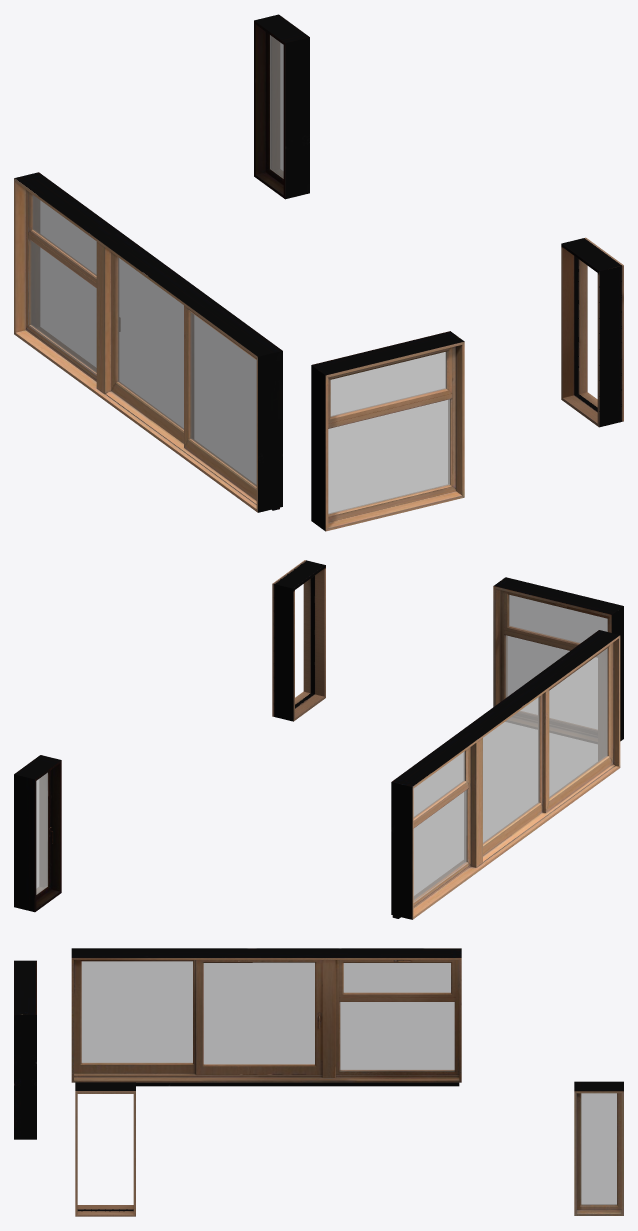
Rendered from Wood_Window.glb.
3 renders of one model, top to bottom at view 1: azimuth 30°, elevation 25°; view 2: azimuth 150°, elevation 25°; view 3: azimuth 270°, elevation 25°, orthographic. The views are drawn at different scales.
Parts seen in each view (by area): view 1: Wood_Window; view 2: Wood_Window; view 3: Wood_Window.
Part boxes in pixels (<box>): Wood_Window: <box>14,14,623,531</box>; Wood_Window: <box>14,560,623,919</box>; Wood_Window: <box>14,948,623,1216</box>.
Size of the model in its own units: 2.19 by 0.9101 by 3.92.
Materials: 3 (2 with a texture image).
